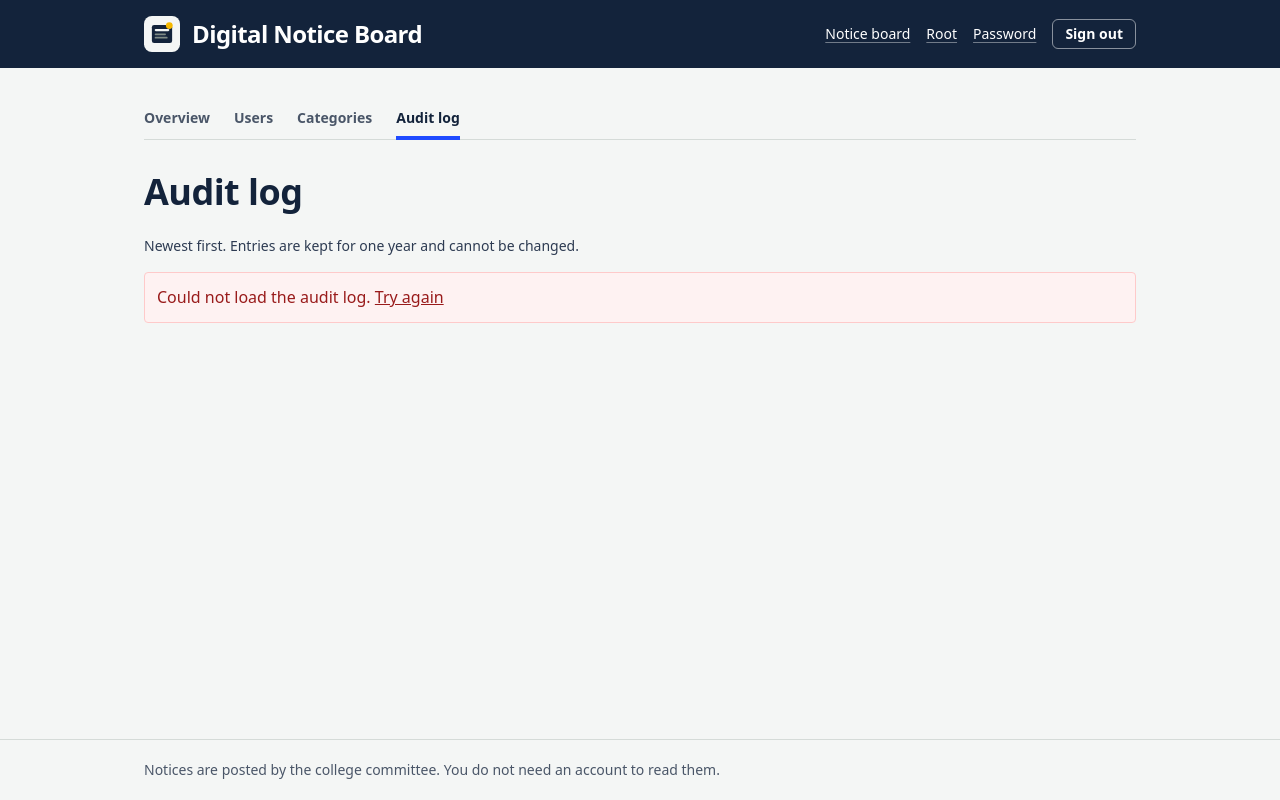
Test: audit log page › shows empty and error states, and retries
Check: the message shows "Could not load the audit log.", box [157,286,371,308]
What coordinates should you click on to do the following:
click the button "Try again"
I would click on:
 (409, 297)
Its box is [375,285,444,310].
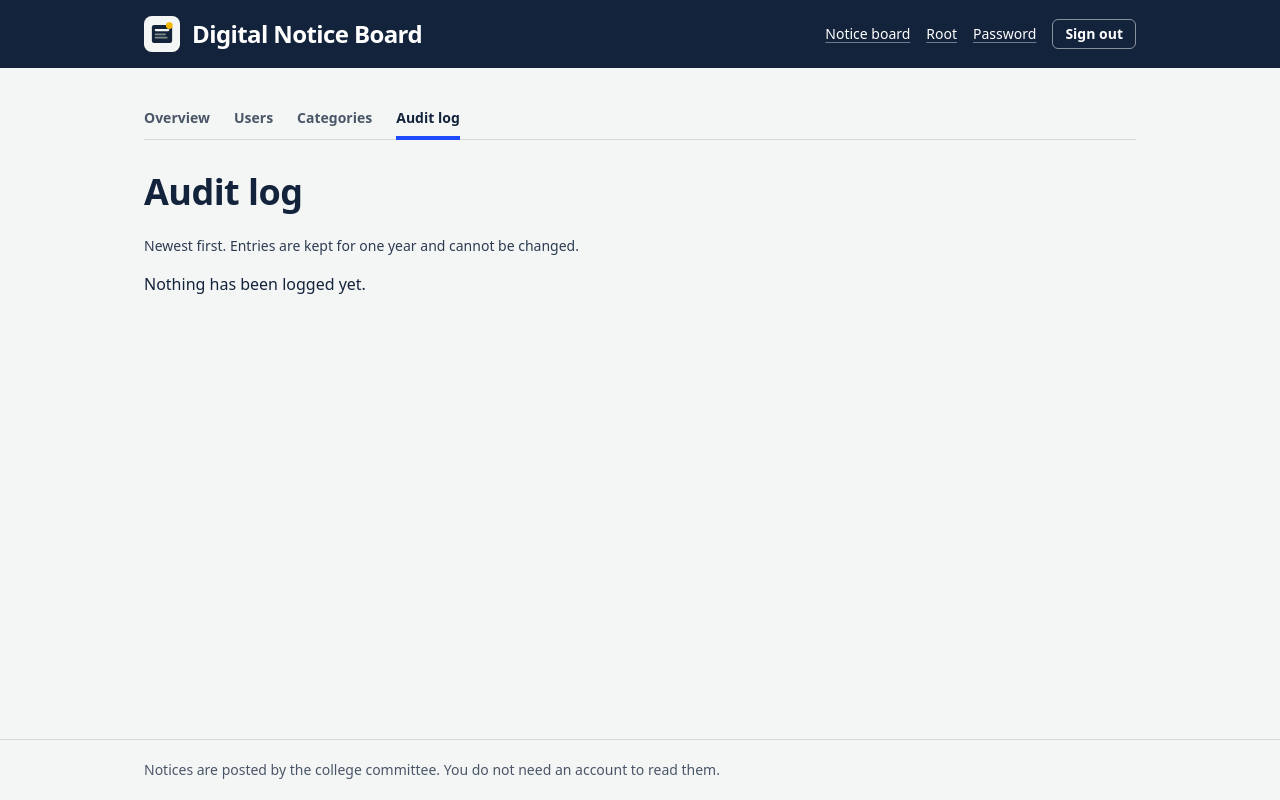
Check: the text "Nothing has been logged yet." is shown, box [144,273,366,295]
